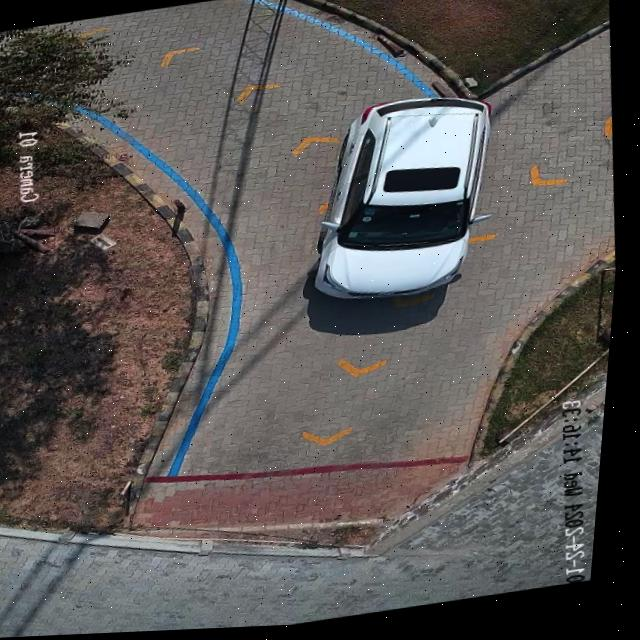car: (317, 101, 491, 303)
